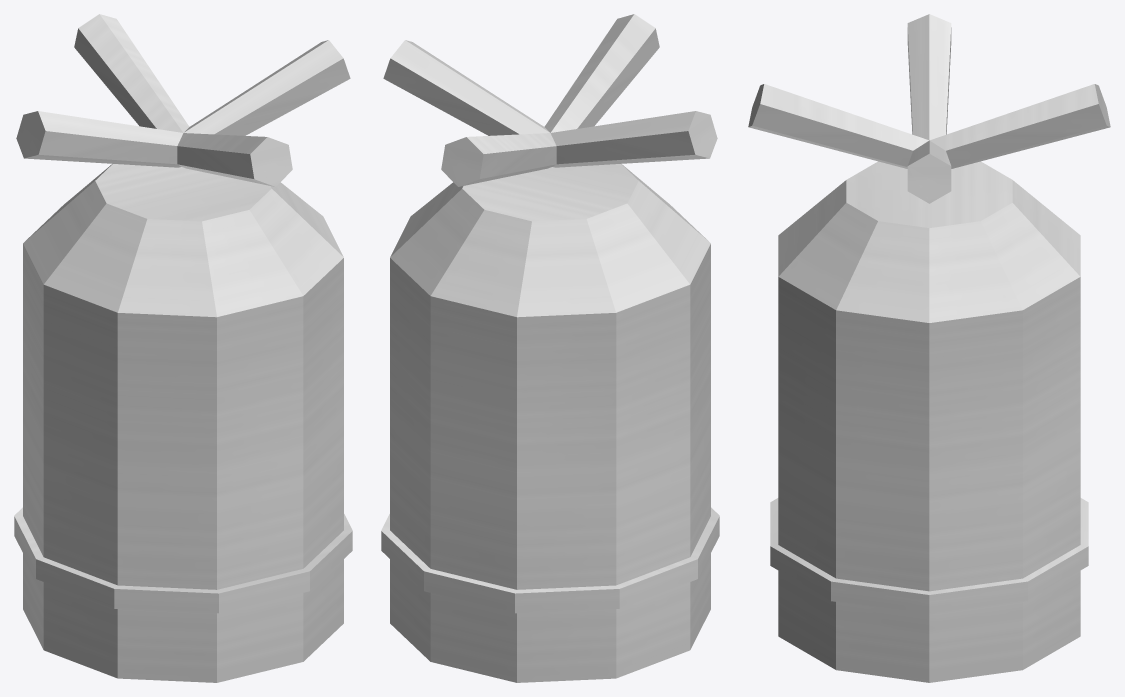
Rendered from firefoam_popper.obj.
3 views of the same model, side by side, from view 1: azimuth 30°, elevation 25°; view 2: azimuth 150°, elevation 25°; view 3: azimuth 270°, elevation 25° (orthographic).
Visible parts, largest first — view 1: firefoam_popper; view 2: firefoam_popper; view 3: firefoam_popper.
Boxes of the visible parts, left/top/right/bottom form: firefoam_popper: left=14, top=14, right=352, bottom=682; firefoam_popper: left=381, top=14, right=719, bottom=682; firefoam_popper: left=748, top=14, right=1110, bottom=682.
Size of the model in its own units: 0.5022 by 0.8132 by 0.5022.
